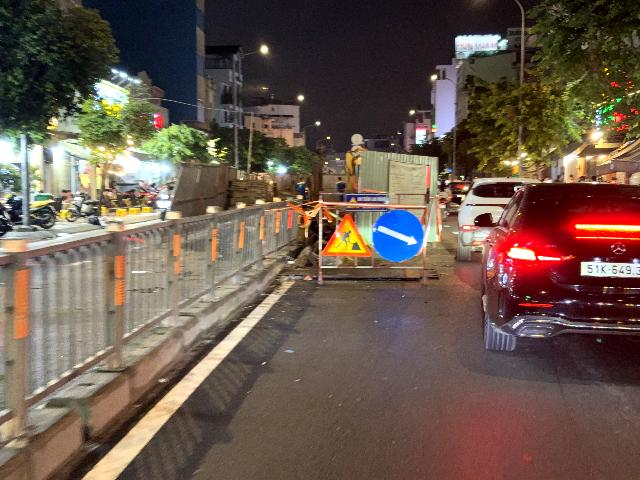cong-truong-dang-thi-cong: (321, 213, 371, 256)
huong-phai-di-vong-chuong-ngai-vat: (372, 208, 424, 261)
